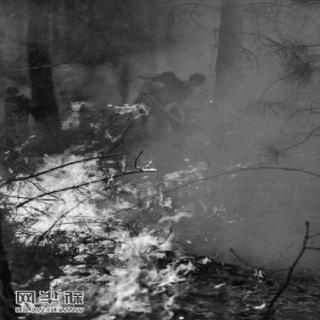Fire: (2, 98, 232, 318)
